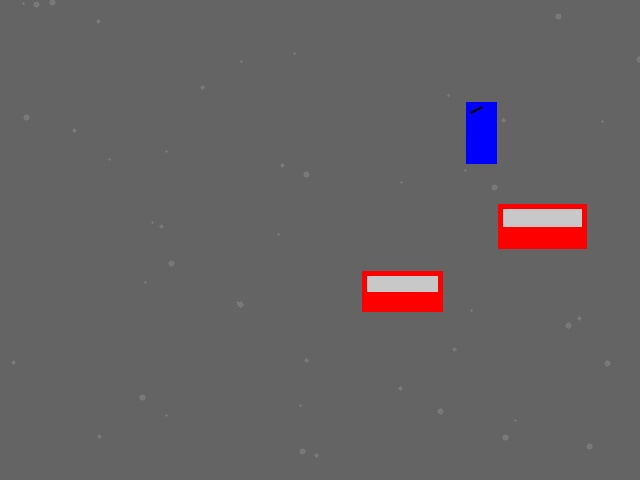car: (498, 204, 586, 248), (362, 271, 442, 311)
motorcycle: (466, 102, 496, 163)
